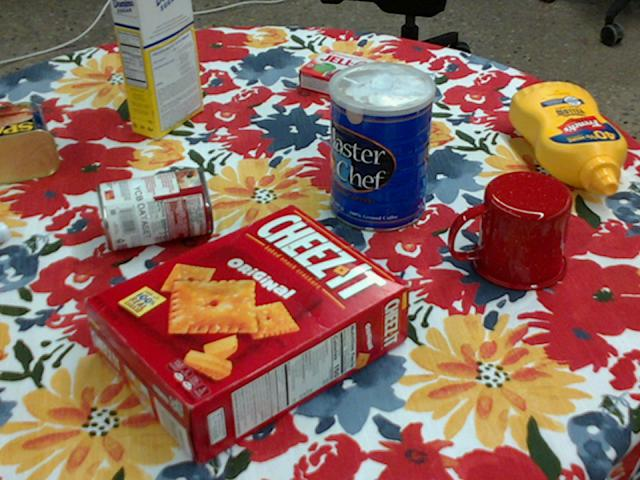cracker_box: (82, 206, 405, 466)
gelatin_box: (296, 51, 382, 104)
large_marker: (0, 221, 9, 241)
master_chef_can: (328, 62, 434, 233)
mug: (449, 171, 571, 292)
mustard_bottle: (507, 81, 624, 194)
potted_meat_can: (0, 101, 57, 183)
sugar_box: (111, 0, 202, 137)
tomato_soup_can: (93, 166, 211, 250)
tuna_fish_can: (345, 96, 419, 154)
